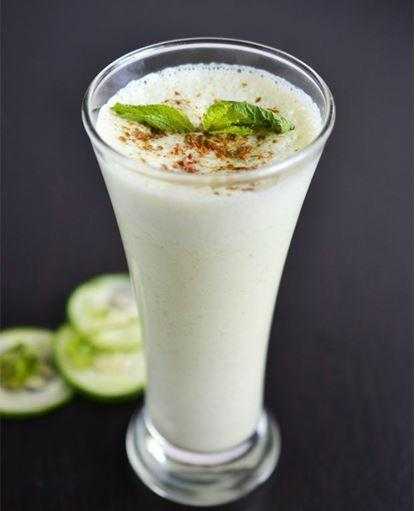Lassi: (95, 62, 325, 452)
